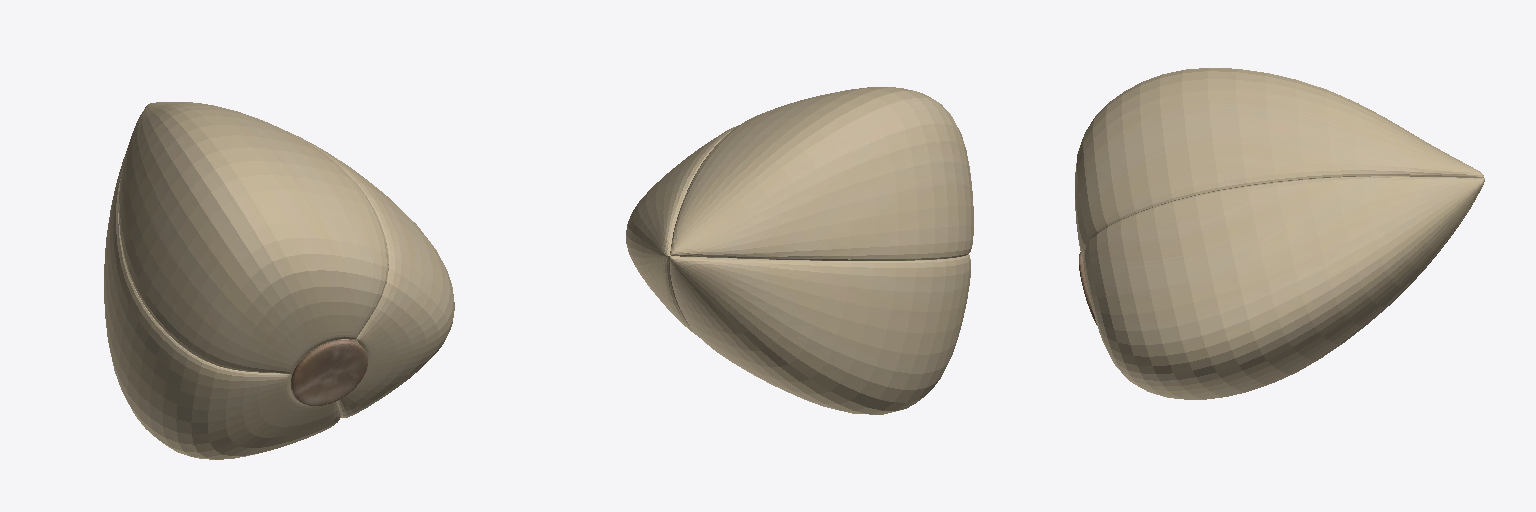
3 renders of one model, left to right at view 1: azimuth 30°, elevation 25°; view 2: azimuth 150°, elevation 25°; view 3: azimuth 270°, elevation 25°, orthographic.
Visible parts, largest first — view 1: GrainBuckwheat050; view 2: GrainBuckwheat050; view 3: GrainBuckwheat050.
Part boxes in pixels (left/top/right/bottom): GrainBuckwheat050: left=104, top=102, right=454, bottom=459; GrainBuckwheat050: left=626, top=87, right=973, bottom=414; GrainBuckwheat050: left=1075, top=68, right=1484, bottom=399.
Size of the model in its own units: 0.0262 by 0.0254 by 0.0314.
Materials: 1 (1 with a texture image).